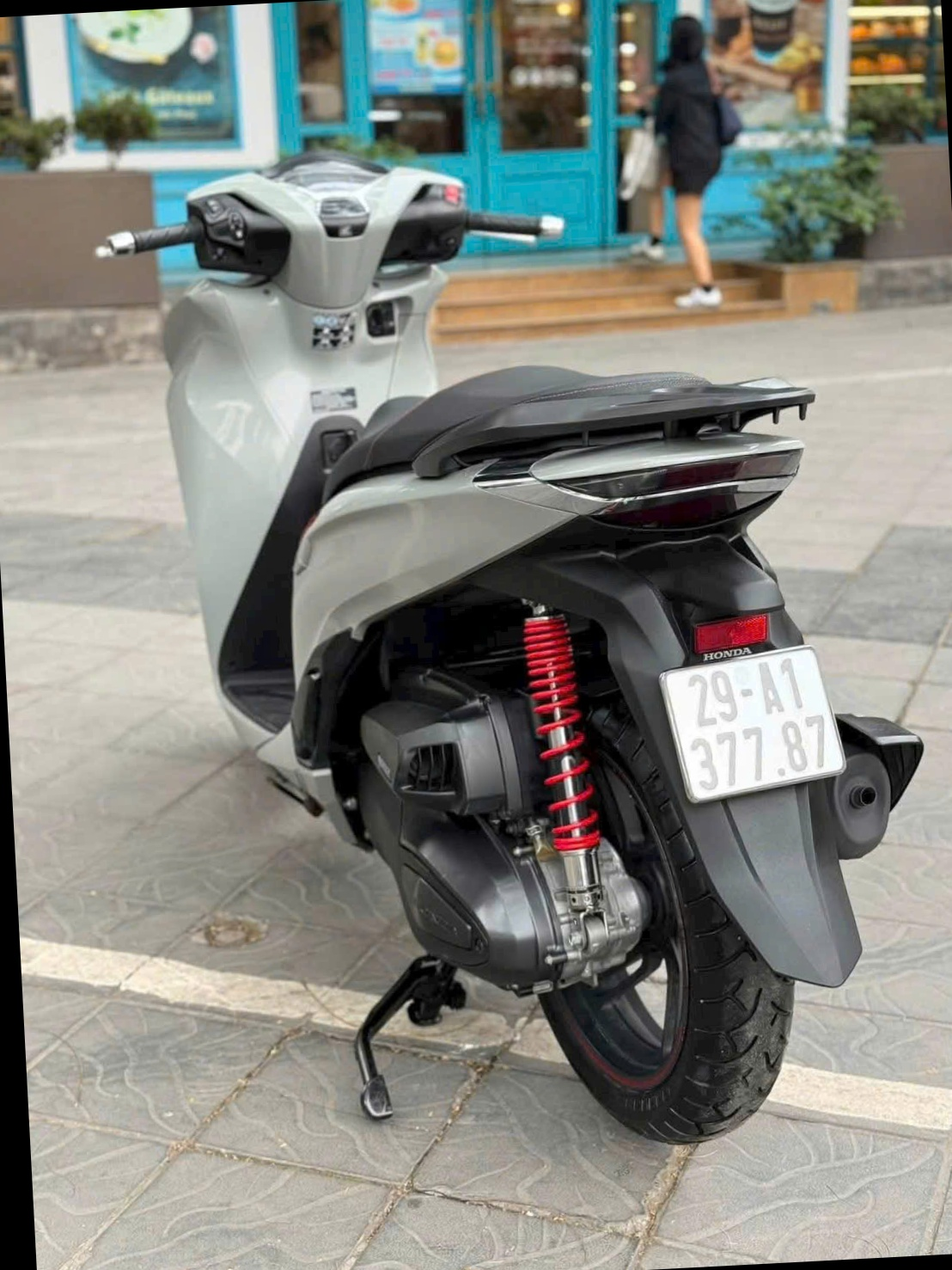Bien-so: (619, 650, 817, 803)
